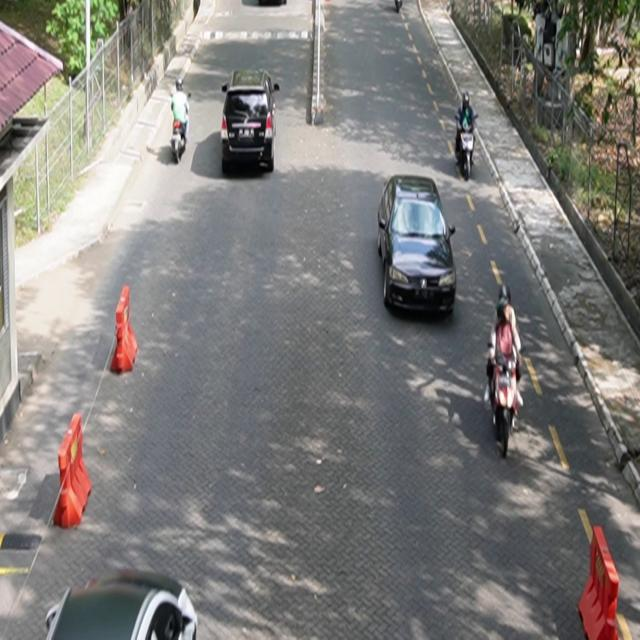car: (378, 175, 458, 317), (221, 68, 281, 174)
